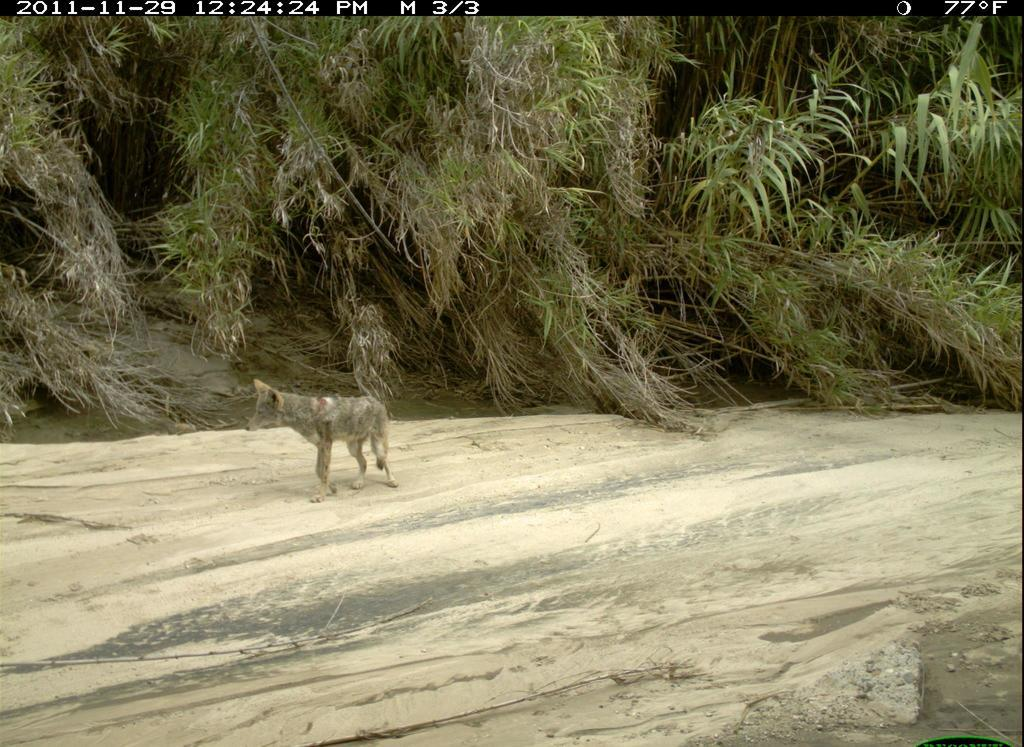coyote: (232, 369, 410, 512)
